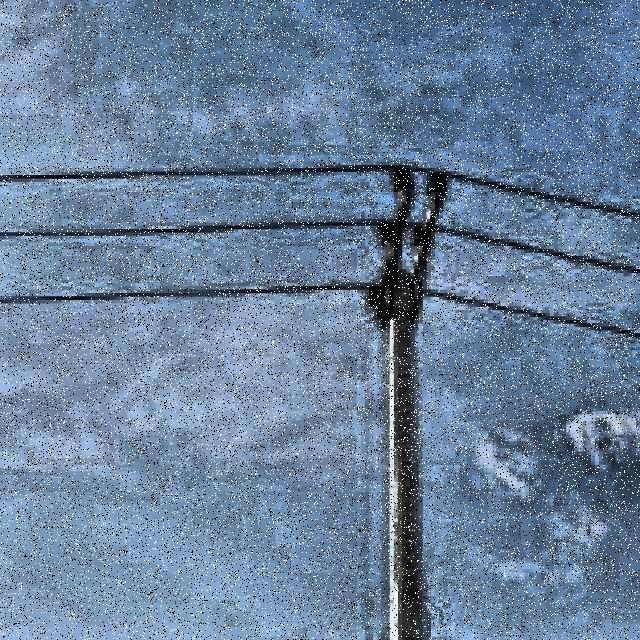crossarm: (403, 177, 453, 332), (376, 173, 418, 313)
pole: (387, 283, 429, 636)
wire: (0, 280, 640, 342), (0, 163, 640, 222), (0, 221, 640, 277)
